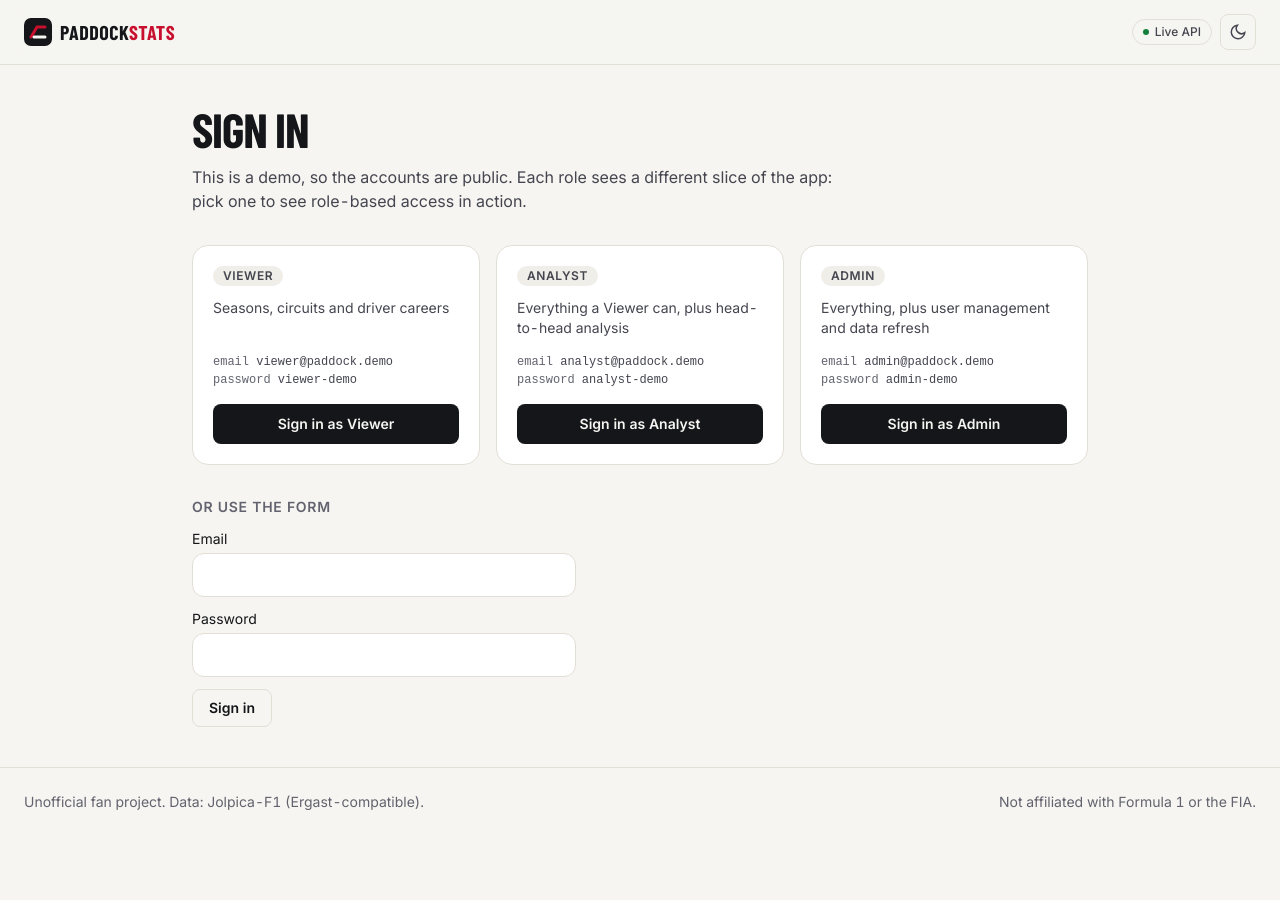
Scenario: Role-based access › rejects bad credentials with a clear message
The width and height of the screenshot is (1280, 900).
Type "viewer@paddock.demo" into the field labelled "Email" at (384, 575), box [192,553,576,597]
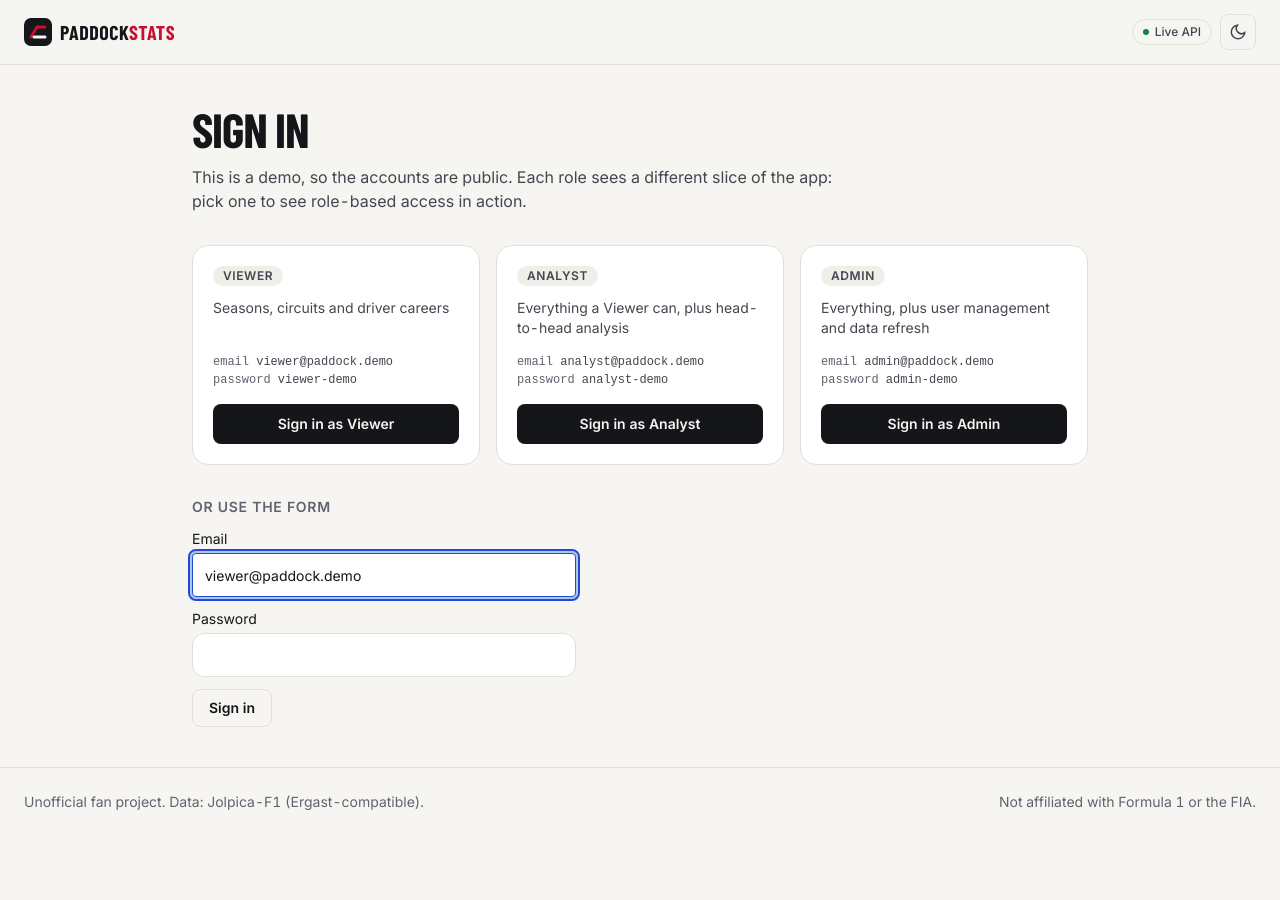
Type "wrong" into the password field labelled "Password" at (384, 655), box [192,633,576,677]
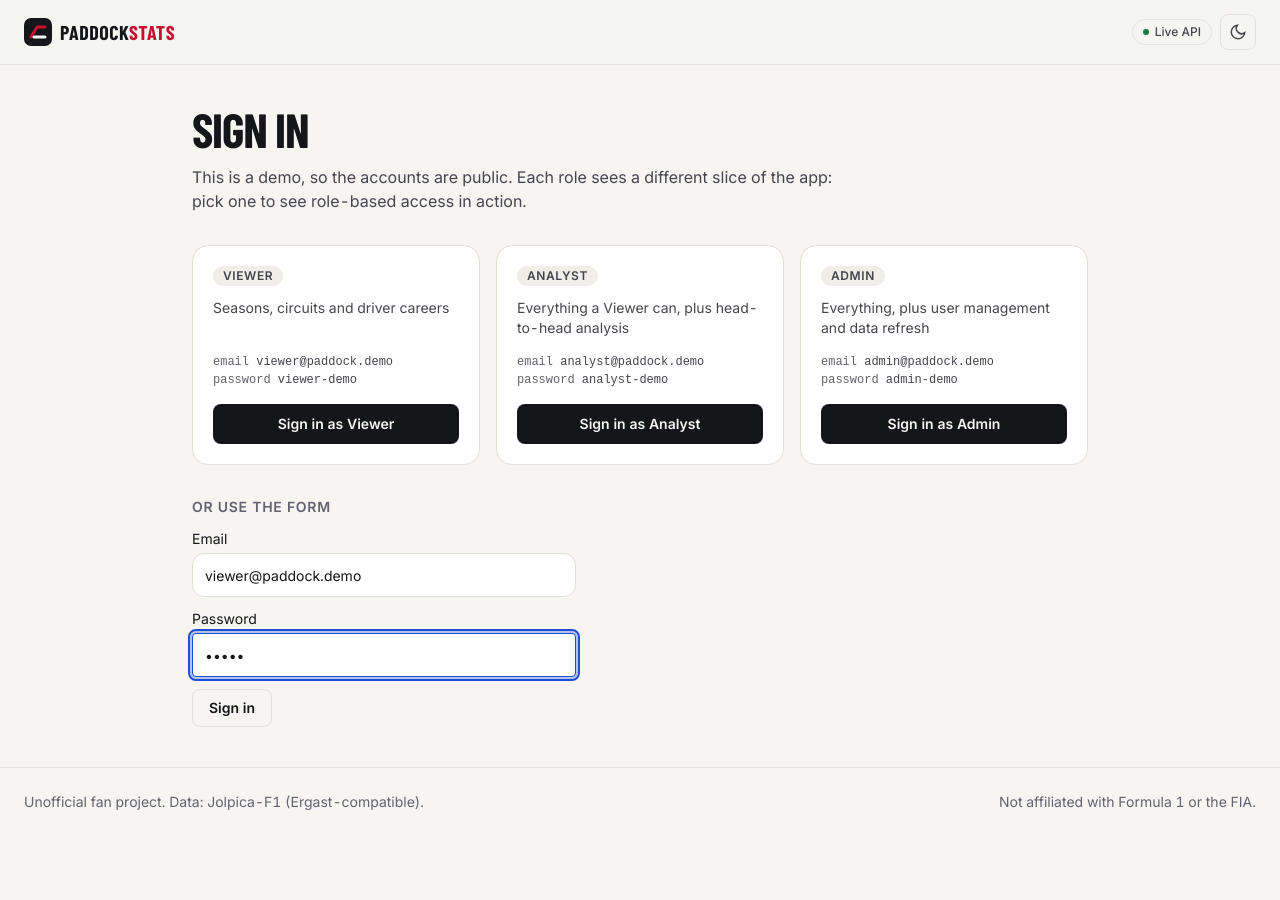
Click the button "Sign in" at (232, 708), box [192,689,272,727]
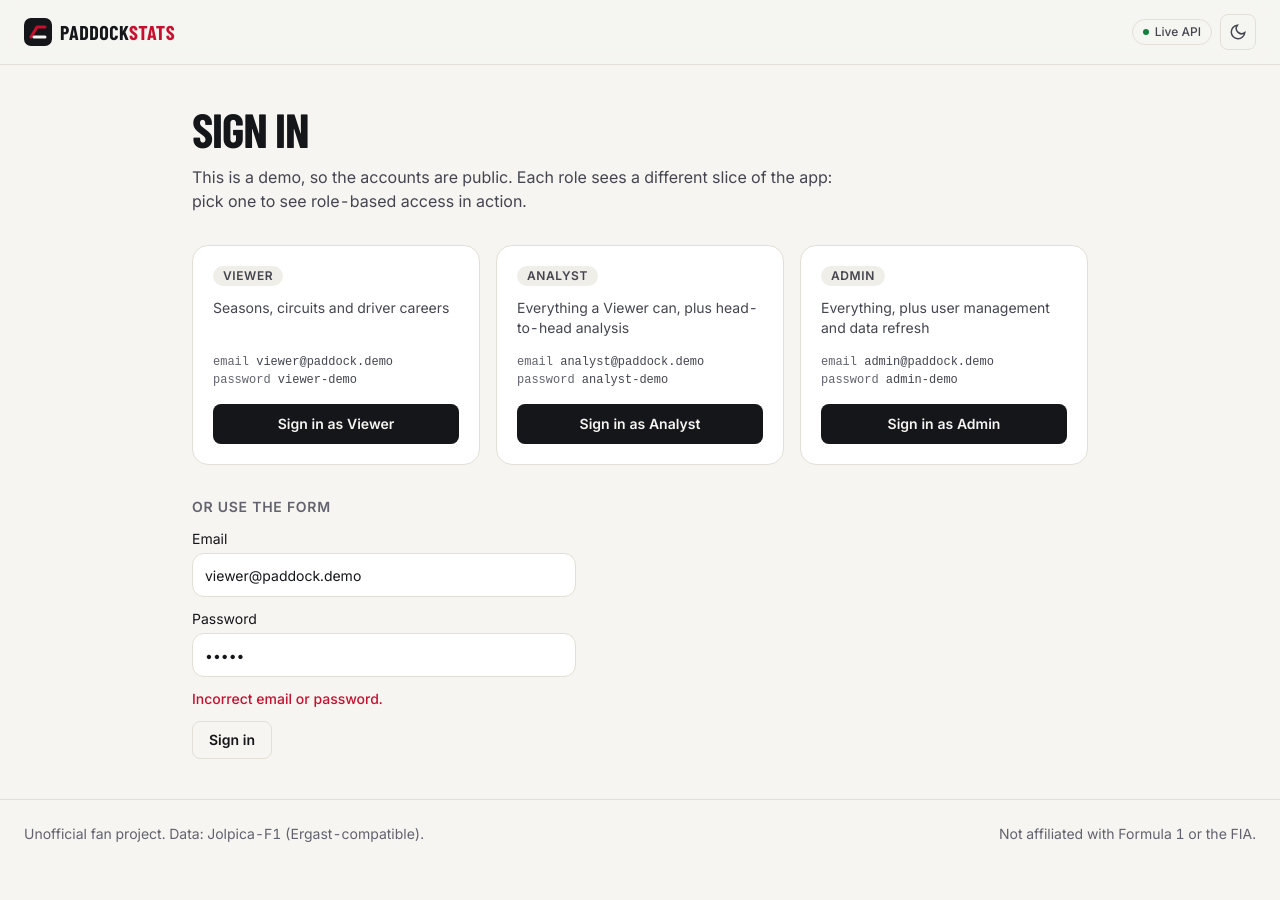
Result: the message "Incorrect email or password." is shown at [192,690,383,707]
